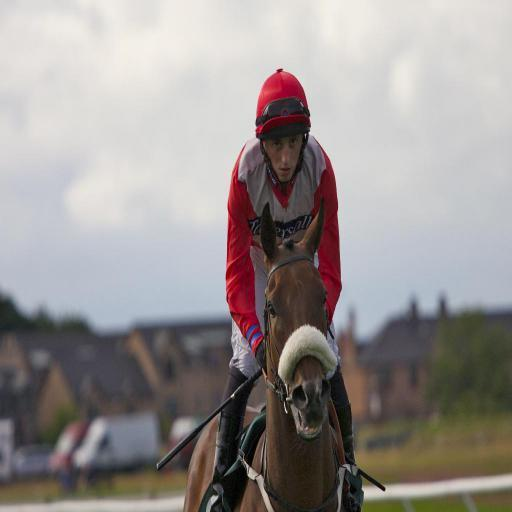horse: (184, 194, 348, 512)
